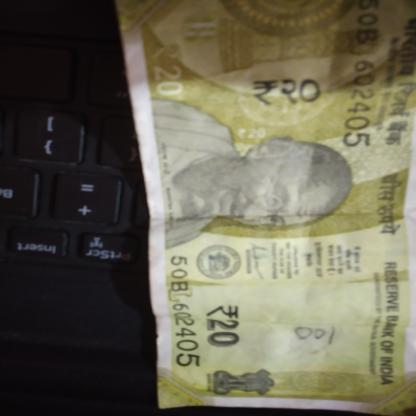New20Front: (156, 7, 415, 415)
